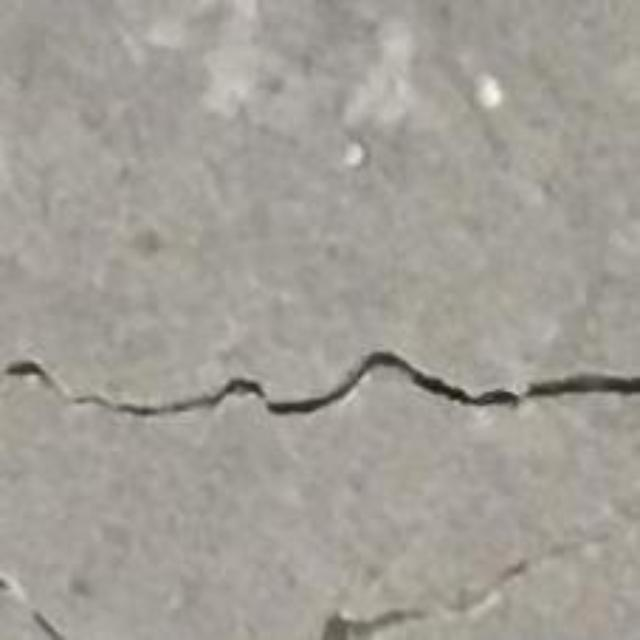crack: (3, 350, 639, 417)
peeling plaster: (342, 23, 425, 169)
